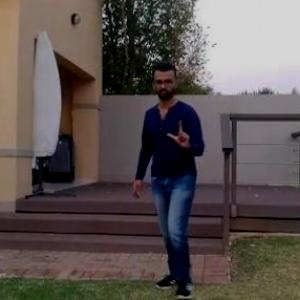land_hand: (158, 114, 193, 154)
